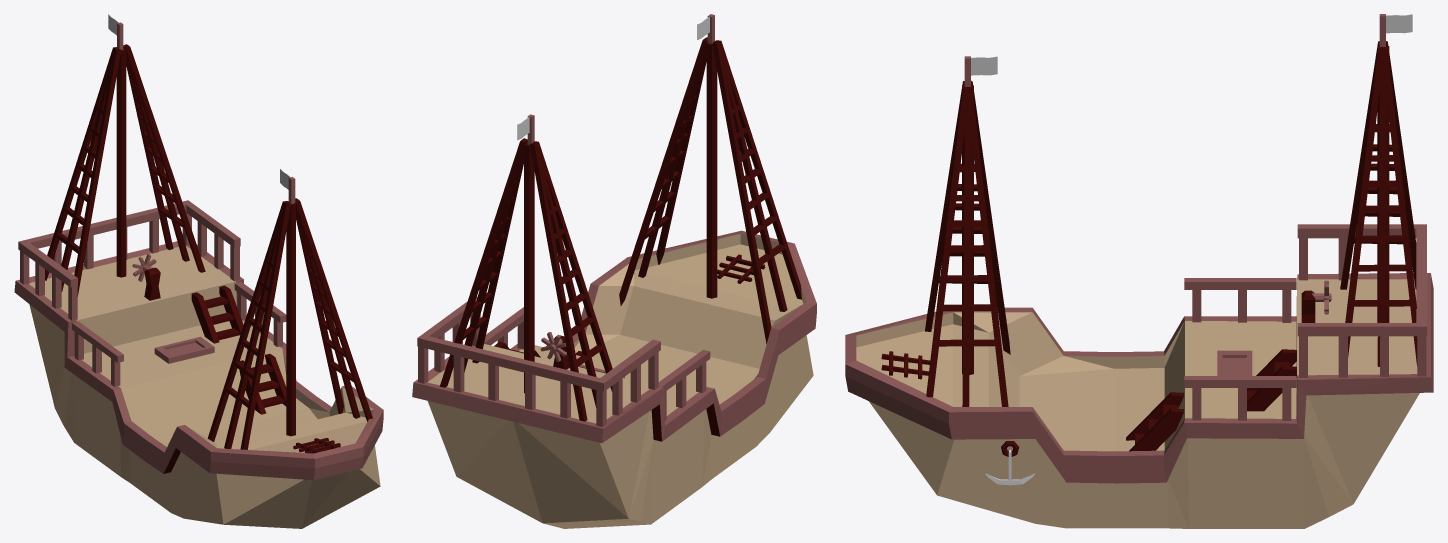
The model's file is small_ship_2.0.fbx.
The picture shows the model from 3 angles, left to right: view 1: azimuth 30°, elevation 25°; view 2: azimuth 150°, elevation 25°; view 3: azimuth 270°, elevation 25°; orthographic projection. The views are drawn at different scales.
Visible parts, largest first — view 1: polySurface105, polySurface147, polySurface194, pCube97, polySurface284, polySurface114, polySurface279, pCube53, polySurface195, pCube92, pCube62; view 2: polySurface105, polySurface147, polySurface194, pCube97, polySurface114, polySurface195, pCube92; view 3: polySurface105, polySurface147, polySurface194, pCube97, polySurface114, polySurface195, polySurface279, polySurface284, pCube53, pCube92, pCube96, pCube98.
Boxes of the visible parts, left/top/right/bottom form: polySurface105: left=14, top=241, right=383, bottom=528; polySurface147: left=207, top=198, right=372, bottom=449; polySurface194: left=45, top=44, right=205, bottom=296; pCube97: left=18, top=200, right=240, bottom=320; polySurface284: left=191, top=285, right=243, bottom=343; polySurface114: left=72, top=321, right=123, bottom=386; polySurface279: left=239, top=353, right=286, bottom=414; pCube53: left=154, top=336, right=214, bottom=363; polySurface195: left=234, top=282, right=286, bottom=346; pCube92: left=293, top=438, right=340, bottom=453; pCube62: left=144, top=267, right=160, bottom=300; polySurface105: left=412, top=230, right=816, bottom=528; polySurface147: left=619, top=37, right=801, bottom=343; polySurface194: left=439, top=138, right=612, bottom=421; pCube97: left=417, top=296, right=660, bottom=426; polySurface114: left=658, top=349, right=710, bottom=420; polySurface195: left=484, top=307, right=523, bottom=349; pCube92: left=717, top=254, right=765, bottom=283; polySurface105: left=845, top=273, right=1433, bottom=528; polySurface147: left=925, top=80, right=1010, bottom=406; polySurface194: left=1340, top=41, right=1417, bottom=366; pCube97: left=1297, top=224, right=1426, bottom=377; polySurface114: left=1184, top=278, right=1296, bottom=322; polySurface195: left=1184, top=376, right=1296, bottom=420; polySurface279: left=1126, top=392, right=1183, bottom=451; polySurface284: left=1247, top=349, right=1296, bottom=411; pCube53: left=1217, top=350, right=1252, bottom=375; pCube92: left=881, top=351, right=930, bottom=379; pCube96: left=1379, top=14, right=1412, bottom=46; pCube98: left=964, top=56, right=997, bottom=86.
Size of the model in its own units: 12.93 by 27.86 by 29.99.
